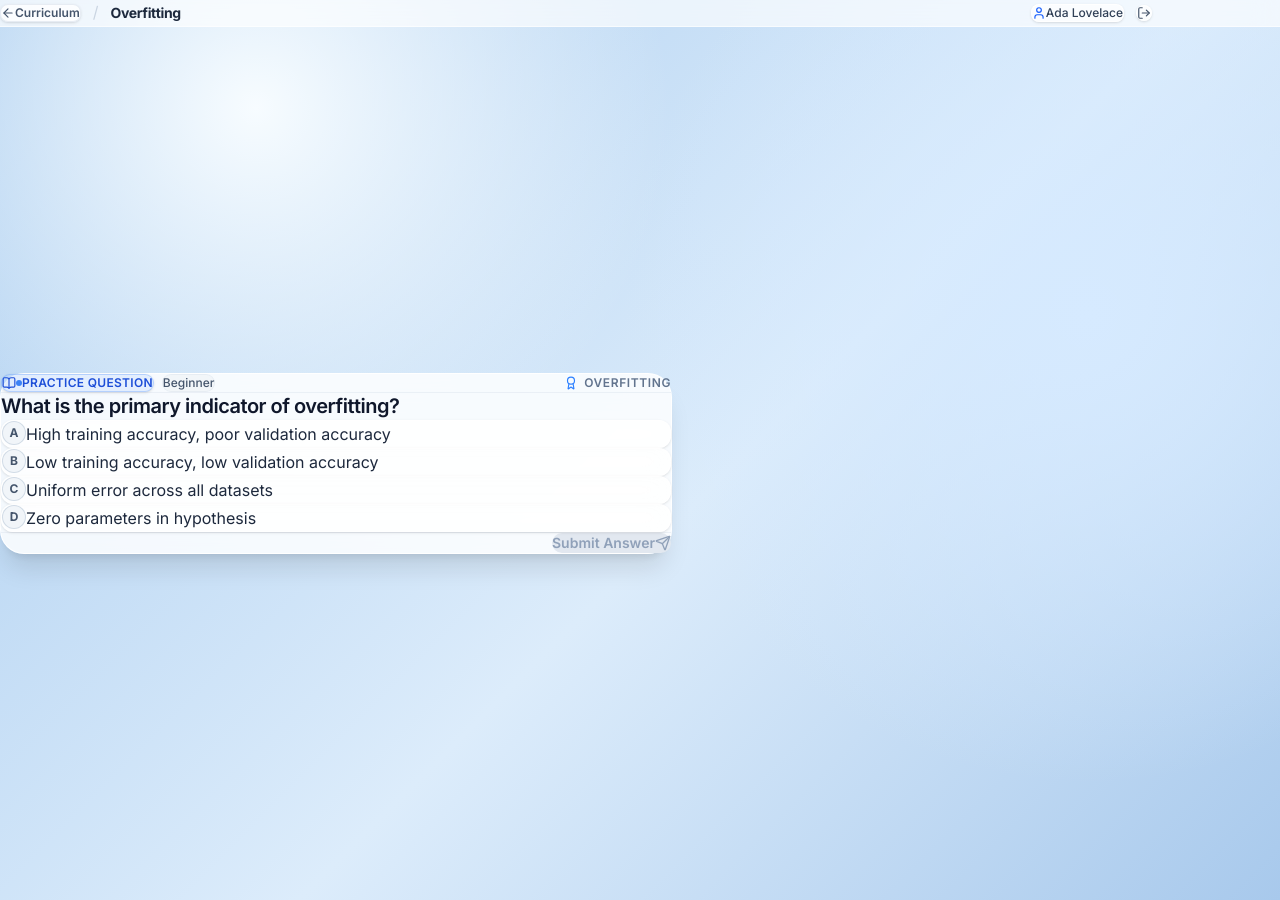
Test: LearningSessionPage component › supports transitioning to Retry stage question
Expected: the heading "What is the primary indicator of overfitting?" is shown, [1, 394, 399, 418]
Note: Select an option and submit
Click the text "High training accuracy, poor validation accuracy" at (208, 434), box [26, 424, 391, 444]
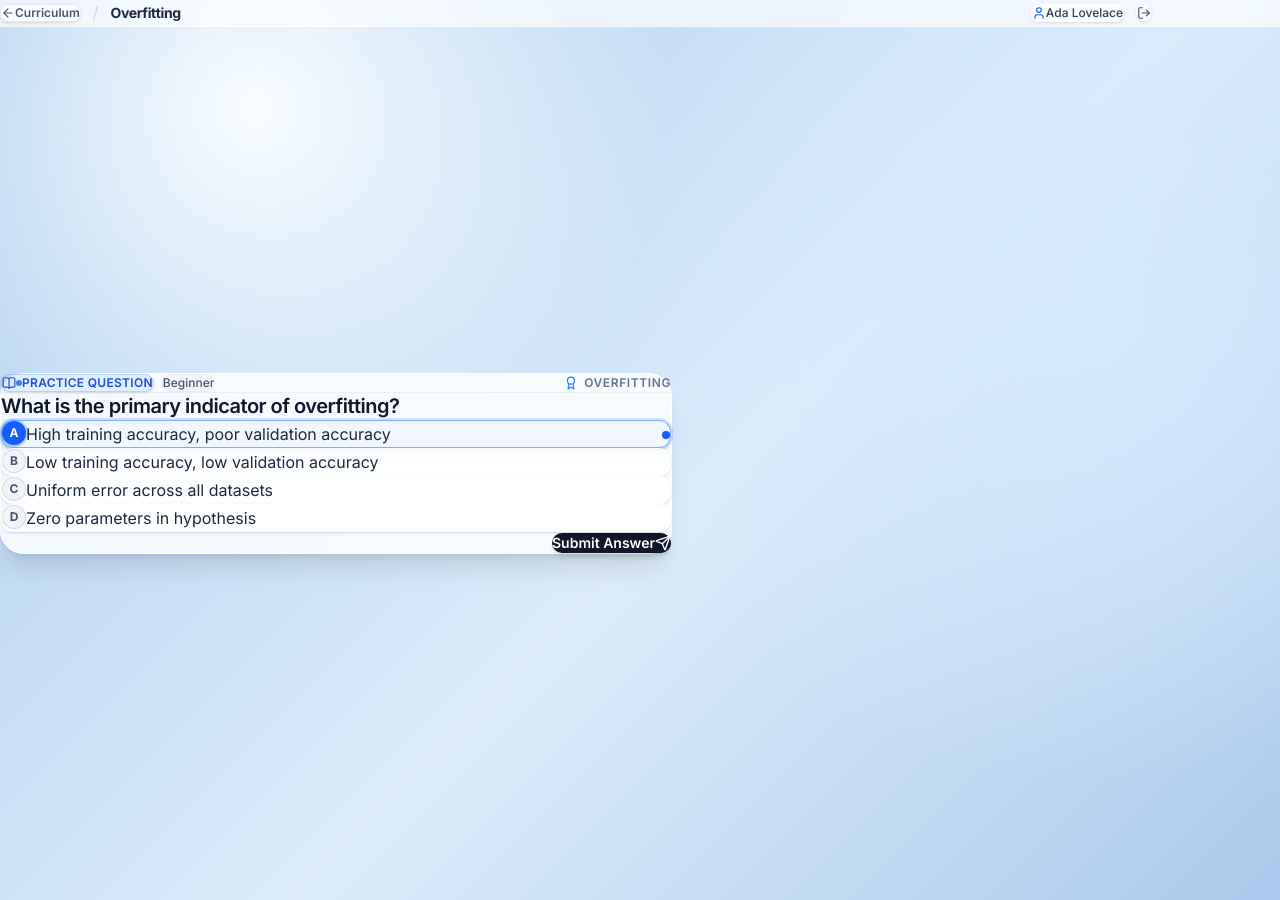
Click the button "Submit Answer" at (612, 543), box [552, 533, 671, 553]
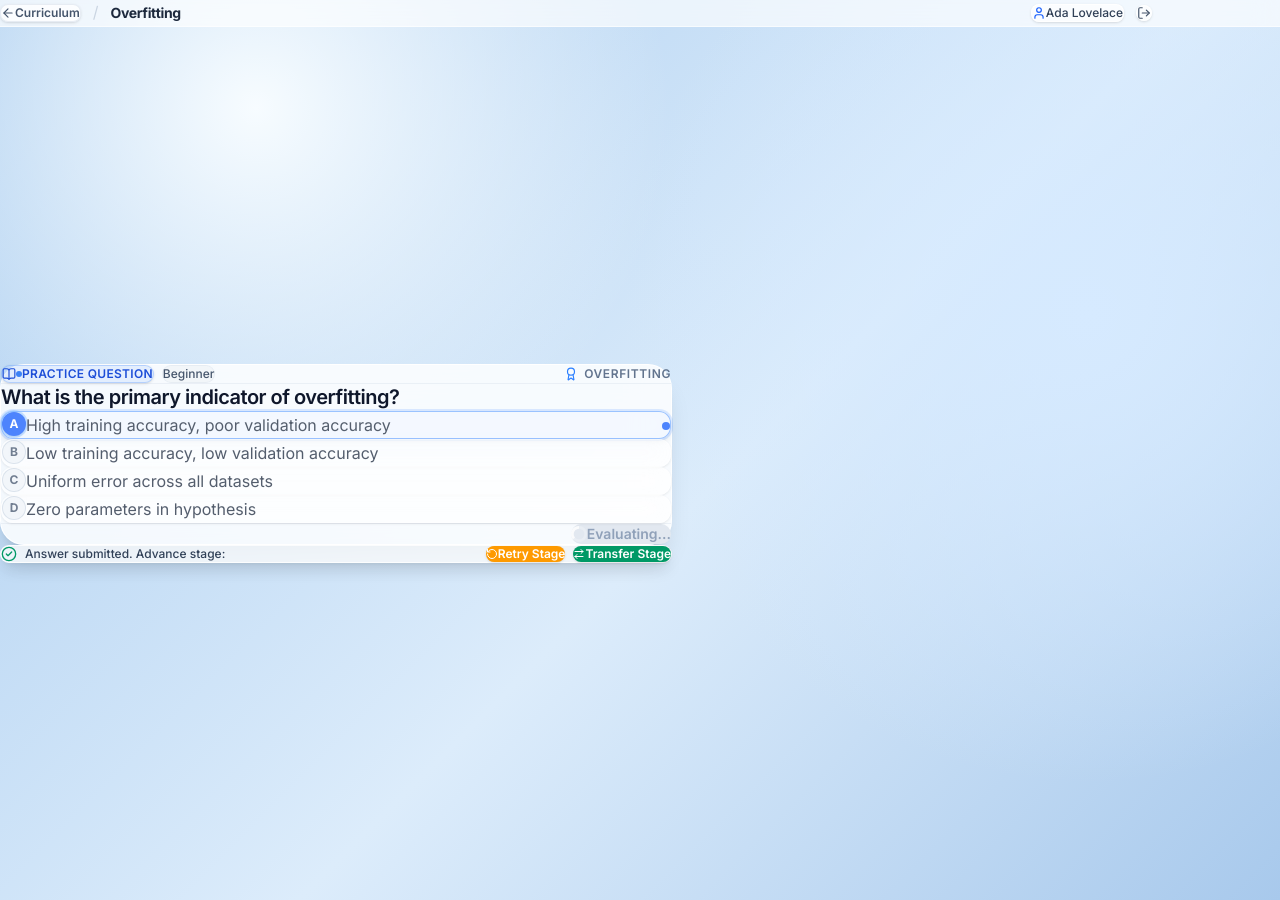
Expected: the button "Retry Stage" is shown
Note: Click Retry stage
Click the button "Retry Stage" at (526, 554), box [486, 546, 565, 562]
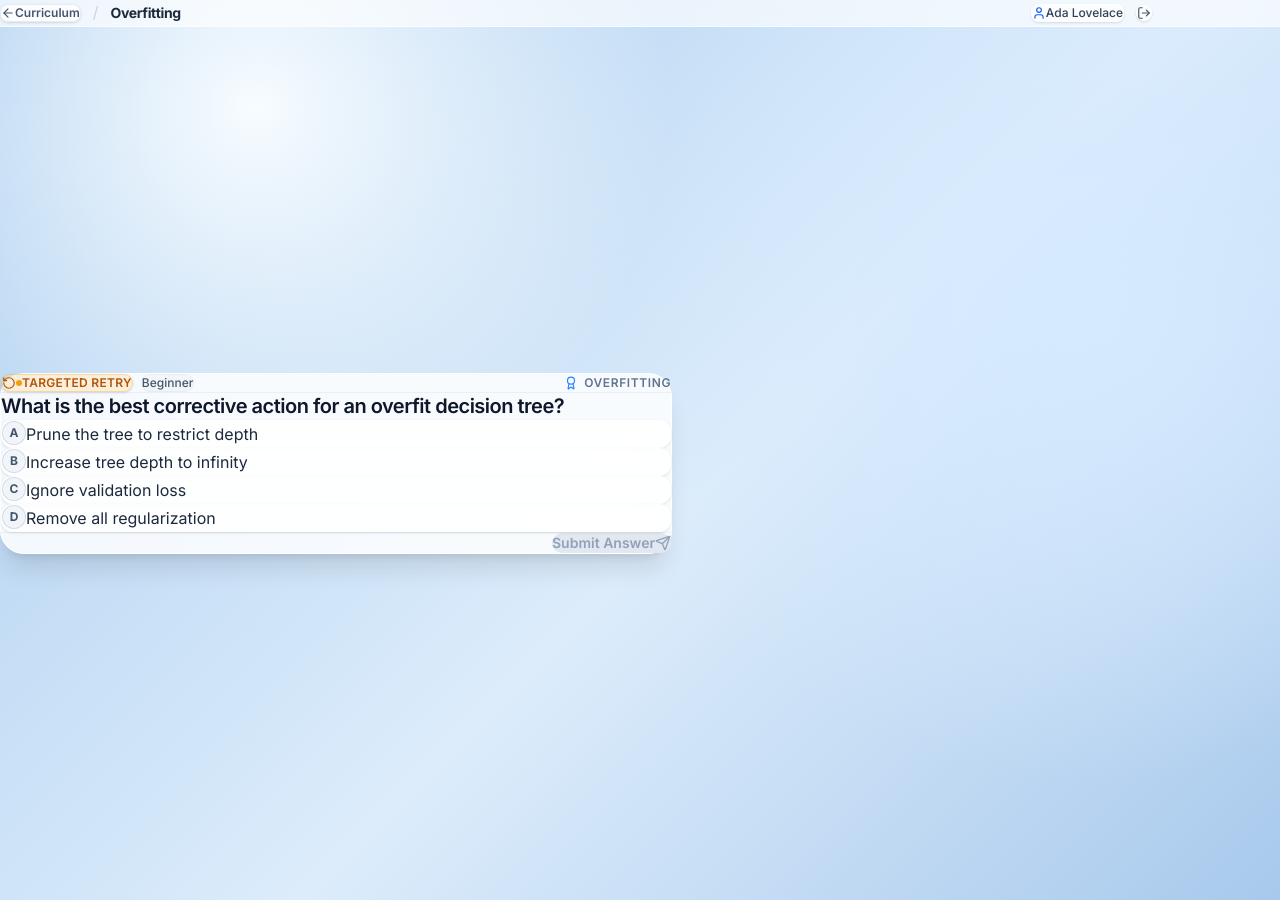
Expected: the heading "What is the best corrective action for an overfit decision tree?" is shown, [1, 394, 564, 418]
Expected: the text "Targeted Retry" is shown, [22, 374, 132, 390]
